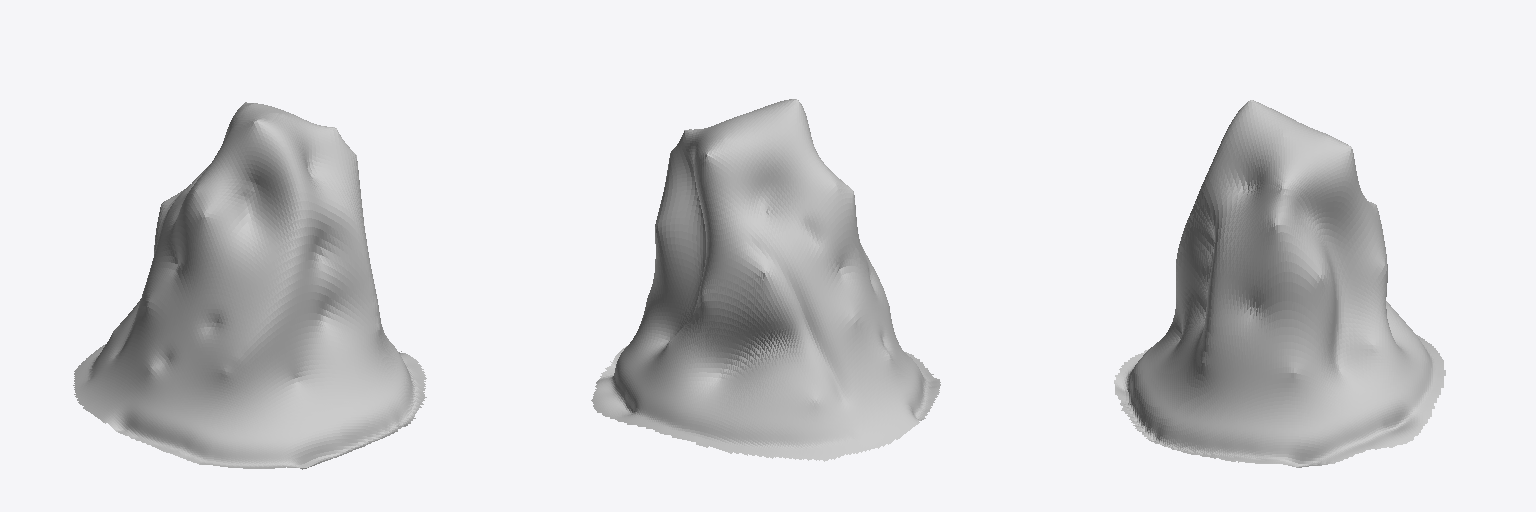
File: rock3.obj
3 renders of one model, left to right at view 1: azimuth 30°, elevation 25°; view 2: azimuth 150°, elevation 25°; view 3: azimuth 270°, elevation 25°, orthographic.
Parts seen in each view (by area): view 1: Plane; view 2: Plane; view 3: Plane.
Part boxes in pixels (bbox=[...]): Plane: bbox=[73, 102, 426, 469]; Plane: bbox=[591, 99, 940, 461]; Plane: bbox=[1114, 100, 1445, 467].
Bounding box in the file's own units: 28.26 × 26.58 × 26.8.